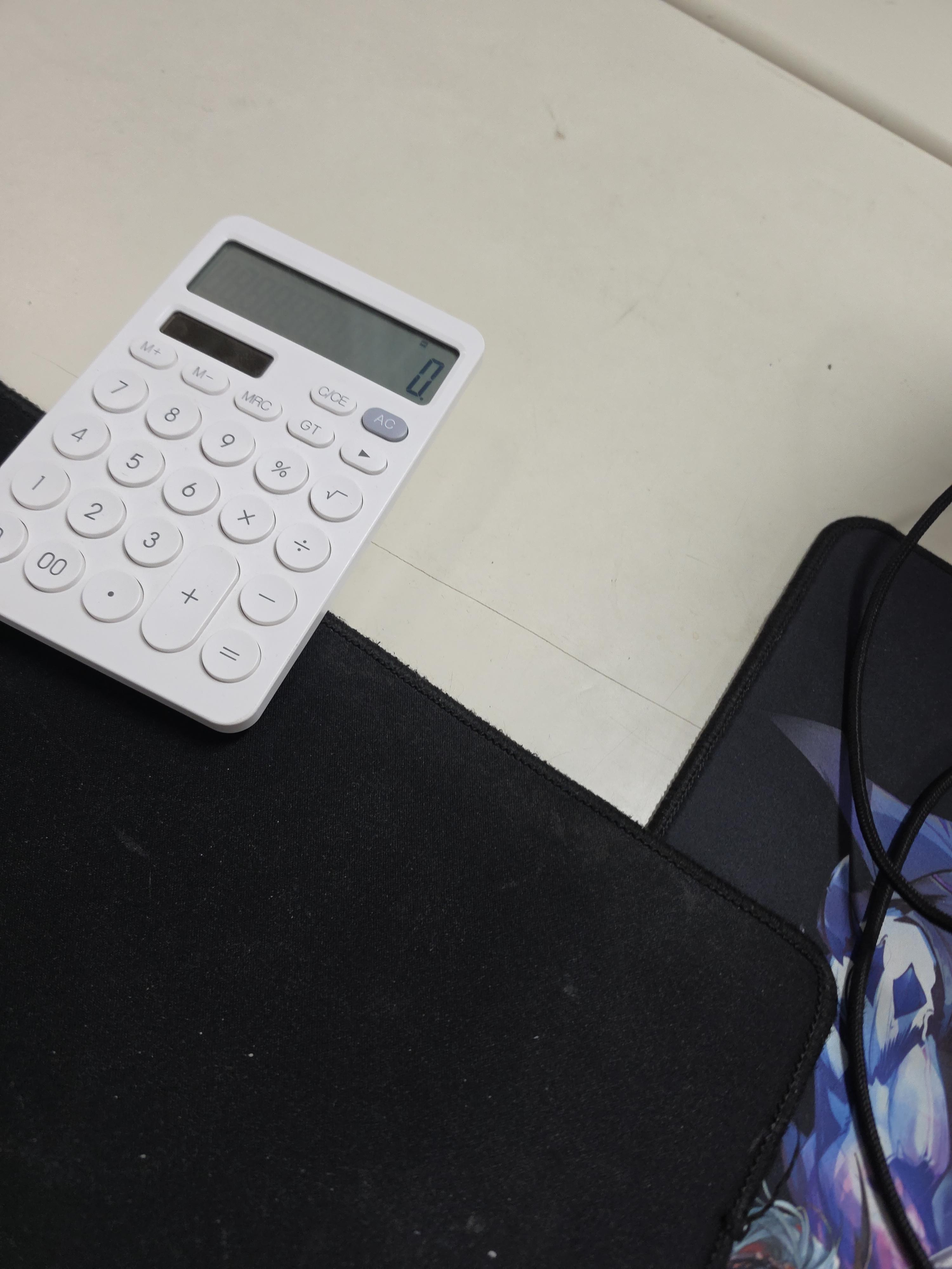calculator: (0, 214, 486, 734)
